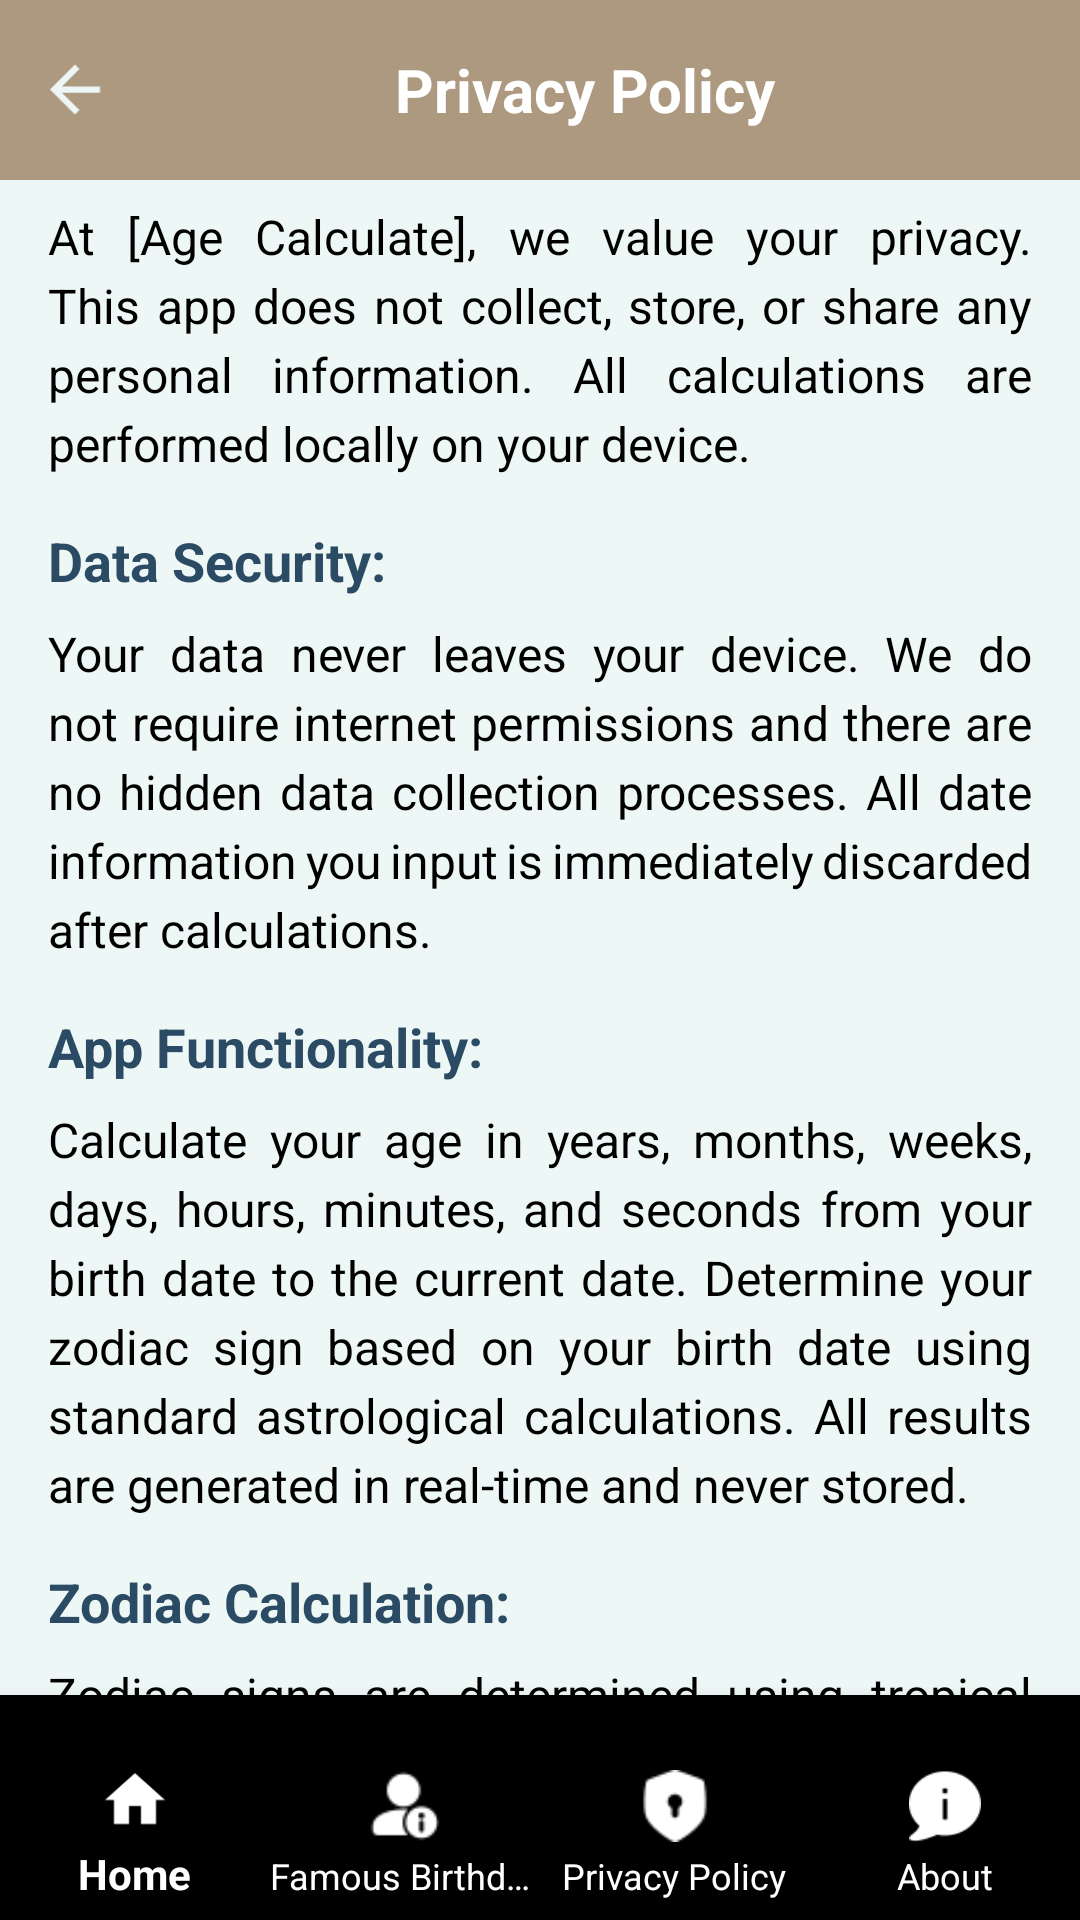

Icon bounding boxes for this 1080x1920 phone screenshot, format (x1, y1, x2, y2):
arrow back: (50, 65, 101, 114)
